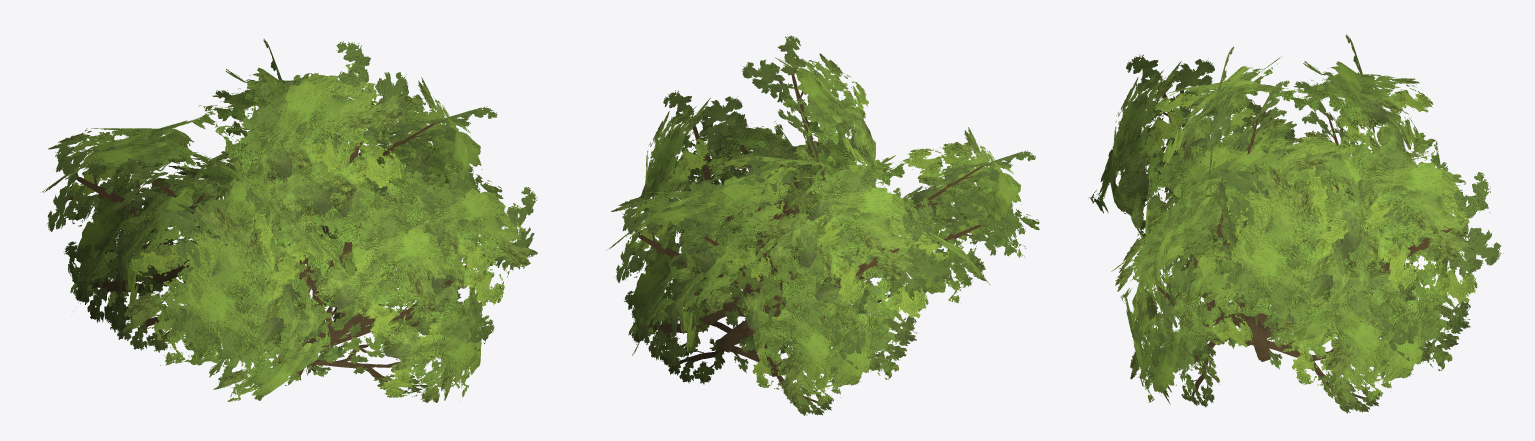
The model's file is Buisson01_TransferedNormals.fbx.
3 renders of one model, left to right at view 1: azimuth 30°, elevation 25°; view 2: azimuth 150°, elevation 25°; view 3: azimuth 270°, elevation 25°, orthographic. The views are drawn at different scales.
Parts seen in each view (by area): view 1: Buisson01_TransferedNormals; view 2: Buisson01_TransferedNormals; view 3: Buisson01_TransferedNormals.
Part boxes in pixels (bbox=[...]): Buisson01_TransferedNormals: bbox=[41, 39, 537, 402]; Buisson01_TransferedNormals: bbox=[606, 34, 1039, 415]; Buisson01_TransferedNormals: bbox=[1089, 34, 1503, 413].
Bounding box in the file's own units: 3.18 × 2.8 × 2.99.
